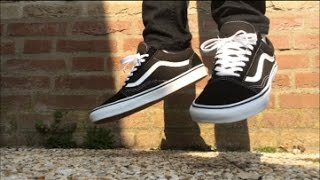Vans Old Skool Black: (185, 18, 290, 129), (85, 42, 205, 129)
